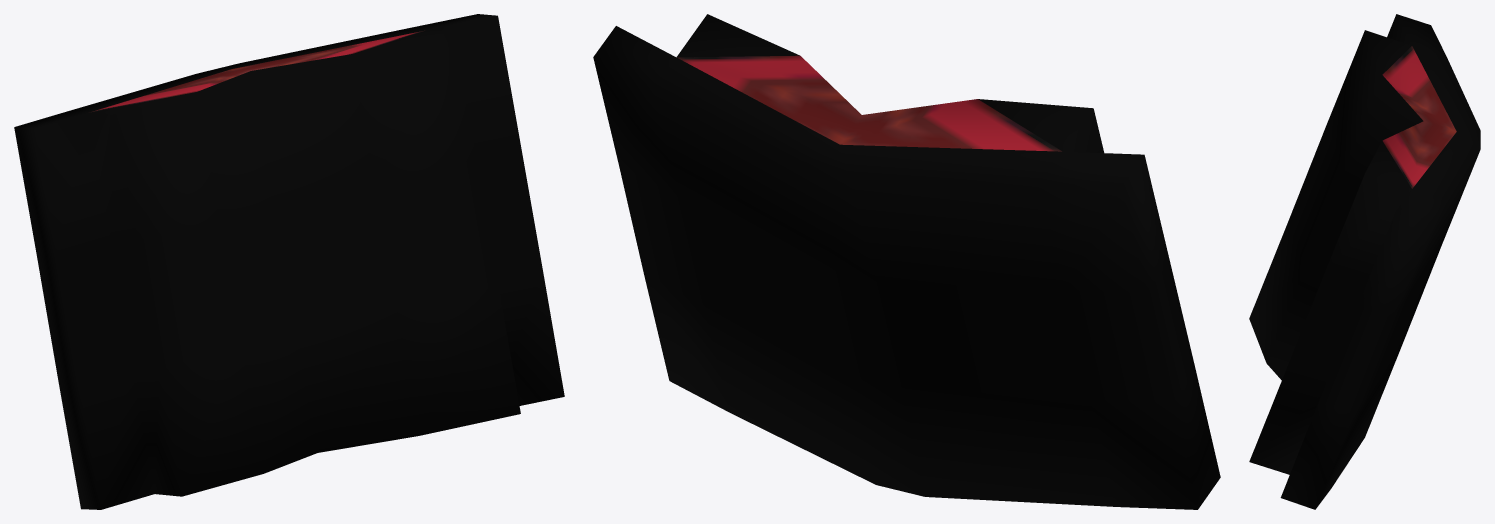
3 renders of one model, left to right at view 1: azimuth 30°, elevation 25°; view 2: azimuth 150°, elevation 25°; view 3: azimuth 270°, elevation 25°, orthographic. The views are drawn at different scales.
Parts seen in each view (by area): view 1: T1L3M002_11; view 2: T1L3M002_11; view 3: T1L3M002_11.
Part boxes in pixels (x1,y1,x2,y2): T1L3M002_11: (14, 14, 564, 509); T1L3M002_11: (593, 14, 1220, 509); T1L3M002_11: (1249, 14, 1480, 509).
Bounding box in the file's own units: 0.5479 × 0.4258 × 0.2734.
